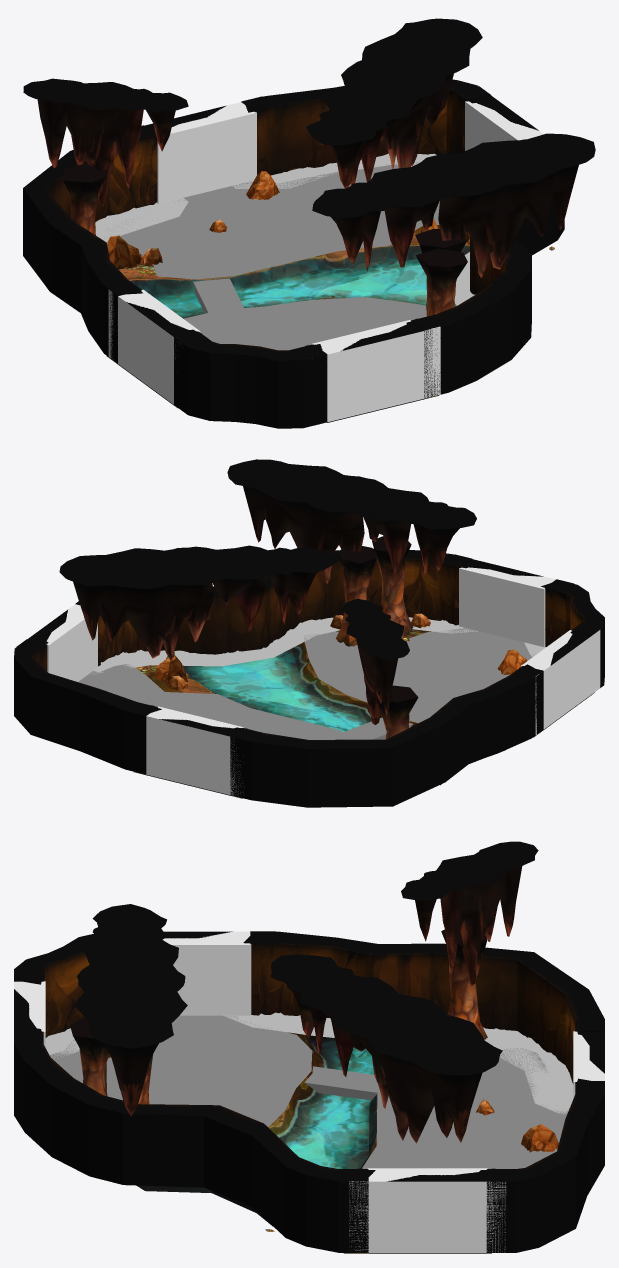
File: Dungeon_062_RoomSW_006.fbx
3 views of the same model, one above another, from view 1: azimuth 30°, elevation 25°; view 2: azimuth 150°, elevation 25°; view 3: azimuth 270°, elevation 25° (orthographic). The views are drawn at different scales.
Visible parts, largest first — view 1: Dun_062_Room_003_Object02, Dun_062_Room_003_wall, Dun_062_RoomSW_001_Nav, DoorWay_NavMask (1) (×4), DoorWay_NavMask (3) (×2), Dun_062_Room_003_kawa01, Dun_062_Door_002 (×4), Dun_062_Object011, Dun_062_Room_003_shadow, Cube_IceGimmick, Dun_062_Object_101, Dungeon_062_Object_04_Pillar (+1 smaller); view 2: Dun_062_Room_003_wall, Dun_062_Room_003_Object02, Dun_062_RoomSW_001_Nav, DoorWay_NavMask (1) (×4), DoorWay_NavMask (3) (×2), Dun_062_Room_003_kawa01, Dun_062_Room_003_shadow, Dun_062_Door_002 (×4), Dun_062_Object011, Dungeon_062_Object_04_Pillar, Dun_062_Object_101, Cube_IceGimmick; view 3: Dun_062_Room_003_wall, Dun_062_Room_003_Object02, Dun_062_RoomSW_001_Nav, DoorWay_NavMask (1) (×4), DoorWay_NavMask (3), Dun_062_Room_003_kawa01, Dun_062_Room_003_shadow, Dun_062_Door_002 (×4), Dun_062_Object011, Cube_IceGimmick, Dungeon_062_Object_03_Rock.
Boxes of the visible parts, left/top/right/bottom form: Dun_062_Room_003_Object02: left=23, top=18, right=595, bottom=278; Dun_062_Room_003_wall: left=23, top=79, right=564, bottom=428; Dun_062_RoomSW_001_Nav: left=107, top=162, right=439, bottom=350; DoorWay_NavMask (1) (×4): left=117, top=101, right=543, bottom=421; DoorWay_NavMask (3) (×2): left=108, top=290, right=440, bottom=421; Dun_062_Room_003_kawa01: left=119, top=233, right=469, bottom=318; Dun_062_Door_002 (×4): left=106, top=86, right=538, bottom=422; Dun_062_Object011: left=63, top=163, right=467, bottom=316; Dun_062_Room_003_shadow: left=95, top=153, right=475, bottom=305; Cube_IceGimmick: left=193, top=278, right=243, bottom=313; Dun_062_Object_101: left=107, top=219, right=469, bottom=269; Dungeon_062_Object_04_Pillar: left=415, top=228, right=467, bottom=316; Dun_062_Room_003_wall: left=14, top=548, right=604, bottom=807; Dun_062_Room_003_Object02: left=59, top=459, right=476, bottom=725; Dun_062_RoomSW_001_Nav: left=78, top=628, right=535, bottom=739; DoorWay_NavMask (1) (×4): left=47, top=567, right=572, bottom=794; DoorWay_NavMask (3) (×2): left=146, top=630, right=600, bottom=796; Dun_062_Room_003_kawa01: left=155, top=642, right=505, bottom=785; Dun_062_Room_003_shadow: left=91, top=617, right=545, bottom=674; Dun_062_Door_002 (×4): left=16, top=554, right=602, bottom=795; Dun_062_Object011: left=372, top=536, right=418, bottom=739; Dungeon_062_Object_04_Pillar: left=336, top=546, right=376, bottom=646; Dun_062_Object_101: left=154, top=613, right=430, bottom=690; Cube_IceGimmick: left=343, top=717, right=413, bottom=739; Dun_062_Room_003_wall: left=14, top=931, right=604, bottom=1252; Dun_062_Room_003_Object02: left=74, top=841, right=538, bottom=1143; Dun_062_RoomSW_001_Nav: left=49, top=1015, right=568, bottom=1168; DoorWay_NavMask (1) (×4): left=14, top=931, right=604, bottom=1252; DoorWay_NavMask (3): left=349, top=1173, right=506, bottom=1252; Dun_062_Room_003_kawa01: left=137, top=1032, right=377, bottom=1226; Dun_062_Room_003_shadow: left=45, top=1012, right=573, bottom=1114; Dun_062_Door_002 (×4): left=14, top=931, right=604, bottom=1253; Dun_062_Object011: left=70, top=929, right=487, bottom=1096; Cube_IceGimmick: left=304, top=1066, right=379, bottom=1100; Dungeon_062_Object_03_Rock: left=521, top=1124, right=558, bottom=1152.
Bounding box in the file's own units: 15.06 × 6.03 × 15.
